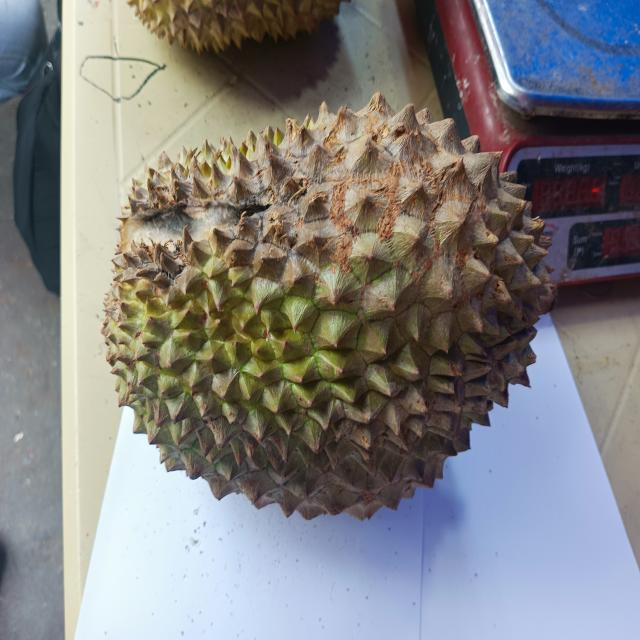defective: (103, 93, 555, 519)
mature: (128, 1, 335, 54)
